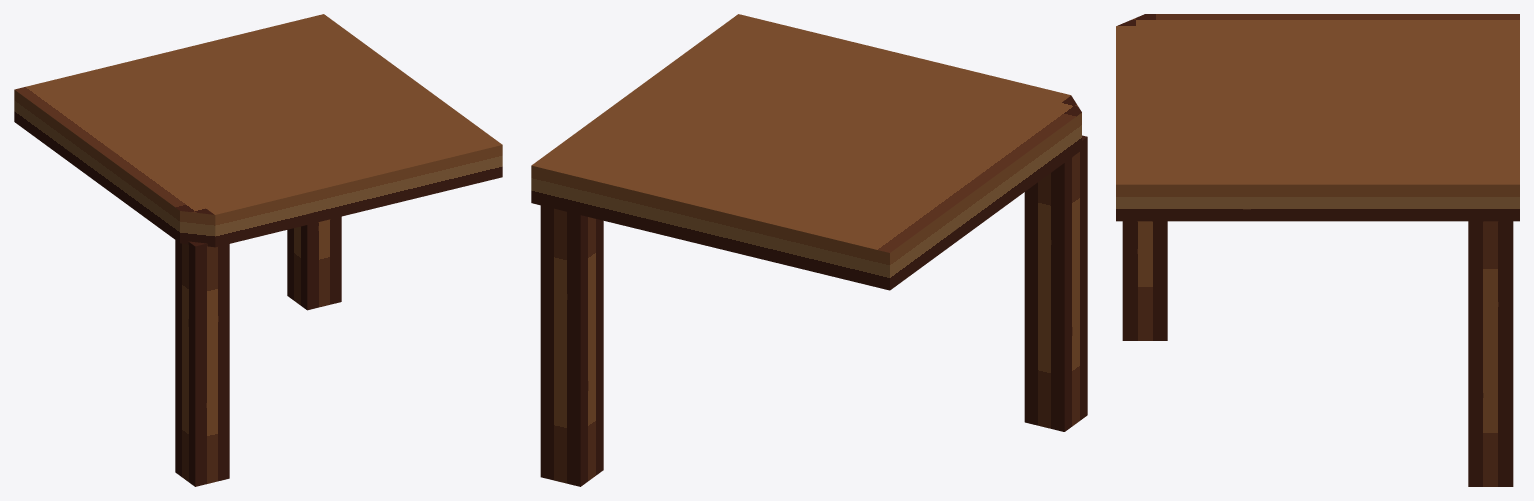
File: wood_table_corner_2legs.glb
3 renders of one model, left to right at view 1: azimuth 30°, elevation 25°; view 2: azimuth 150°, elevation 25°; view 3: azimuth 270°, elevation 25°, orthographic. The views are drawn at different scales.
Parts seen in each view (by area): view 1: wood_table_corner_2legs; view 2: wood_table_corner_2legs; view 3: wood_table_corner_2legs.
Part boxes in pixels (x1,y1,x2,y2): wood_table_corner_2legs: (14, 14, 502, 486); wood_table_corner_2legs: (531, 14, 1087, 486); wood_table_corner_2legs: (1116, 14, 1519, 486).
Bounding box in the file's own units: 0.9 × 0.75 × 0.9.
Materials: 1 (1 with a texture image).
